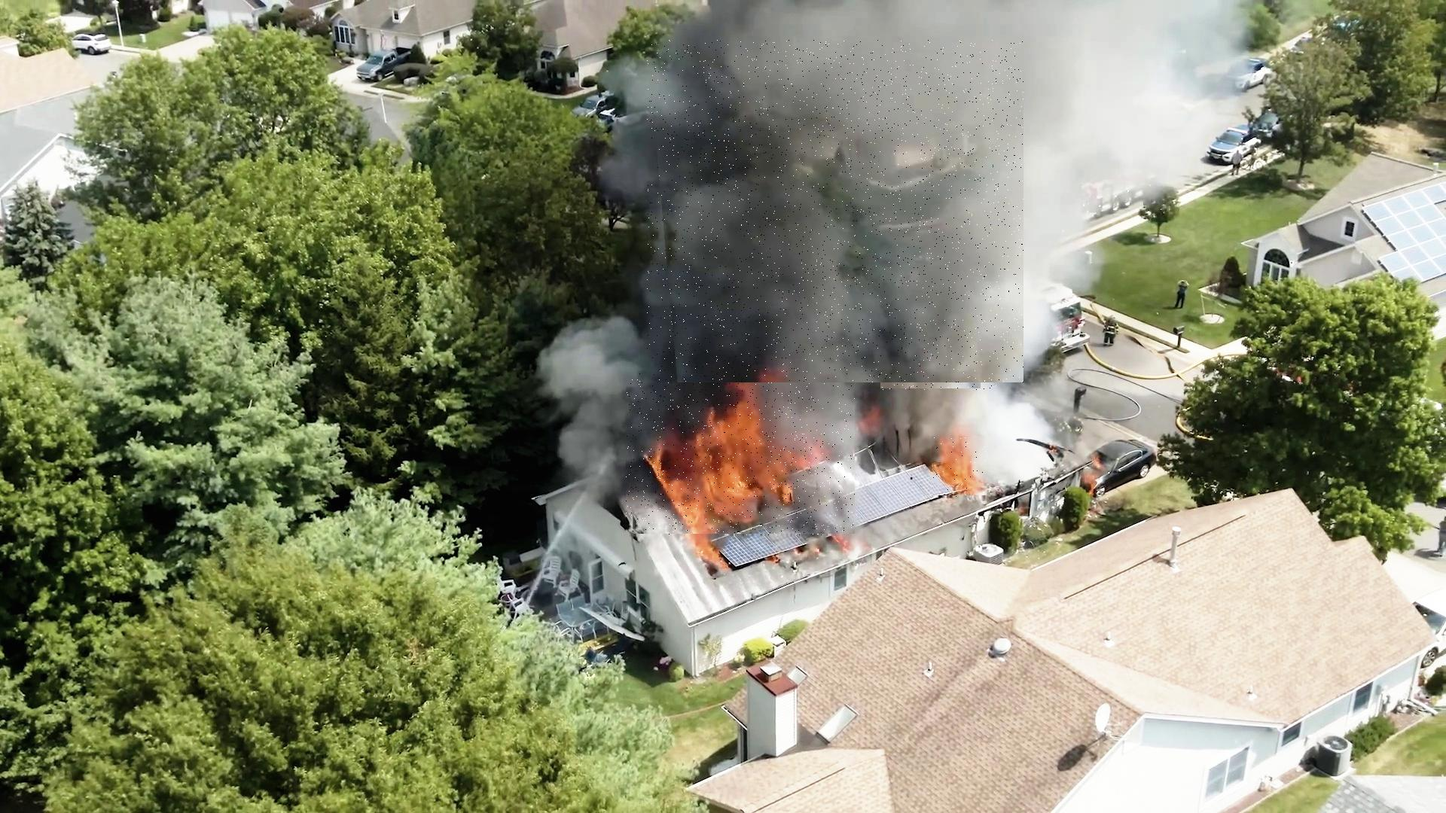fire: (626, 373, 855, 536), (932, 437, 987, 498)
smoke: (647, 40, 1024, 383), (881, 43, 1005, 391)
